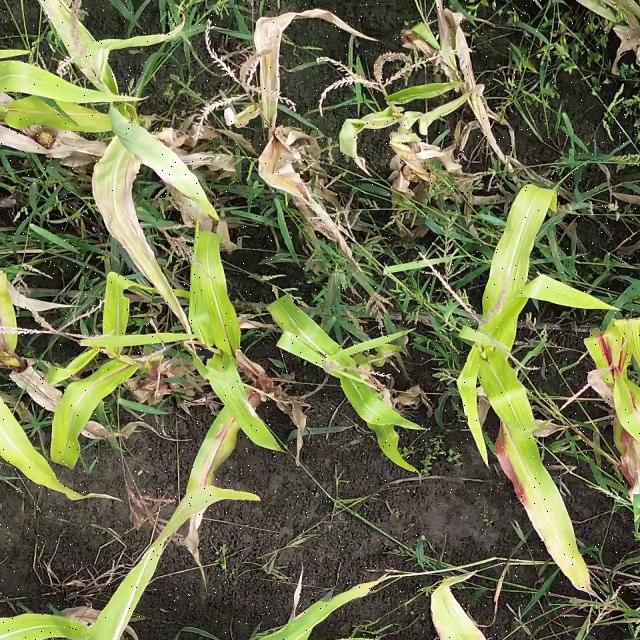northern-leaf-blight: (201, 412, 238, 492), (68, 378, 110, 418)
